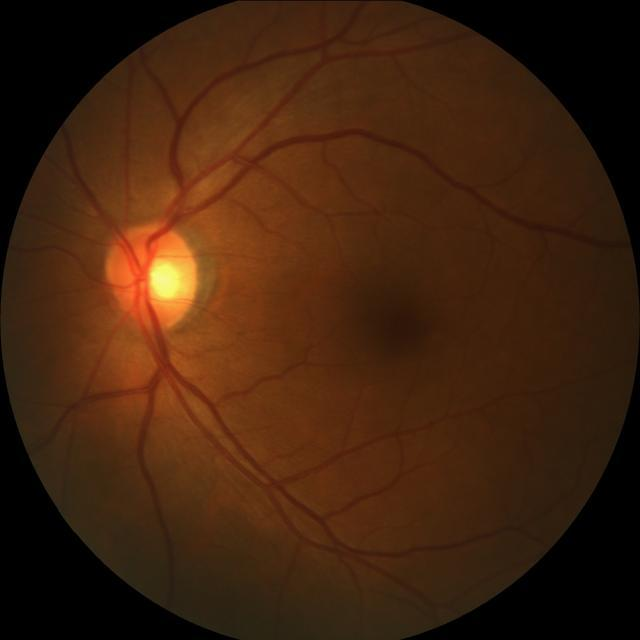OC: (148, 258, 183, 299)
OD: (110, 222, 200, 328)
